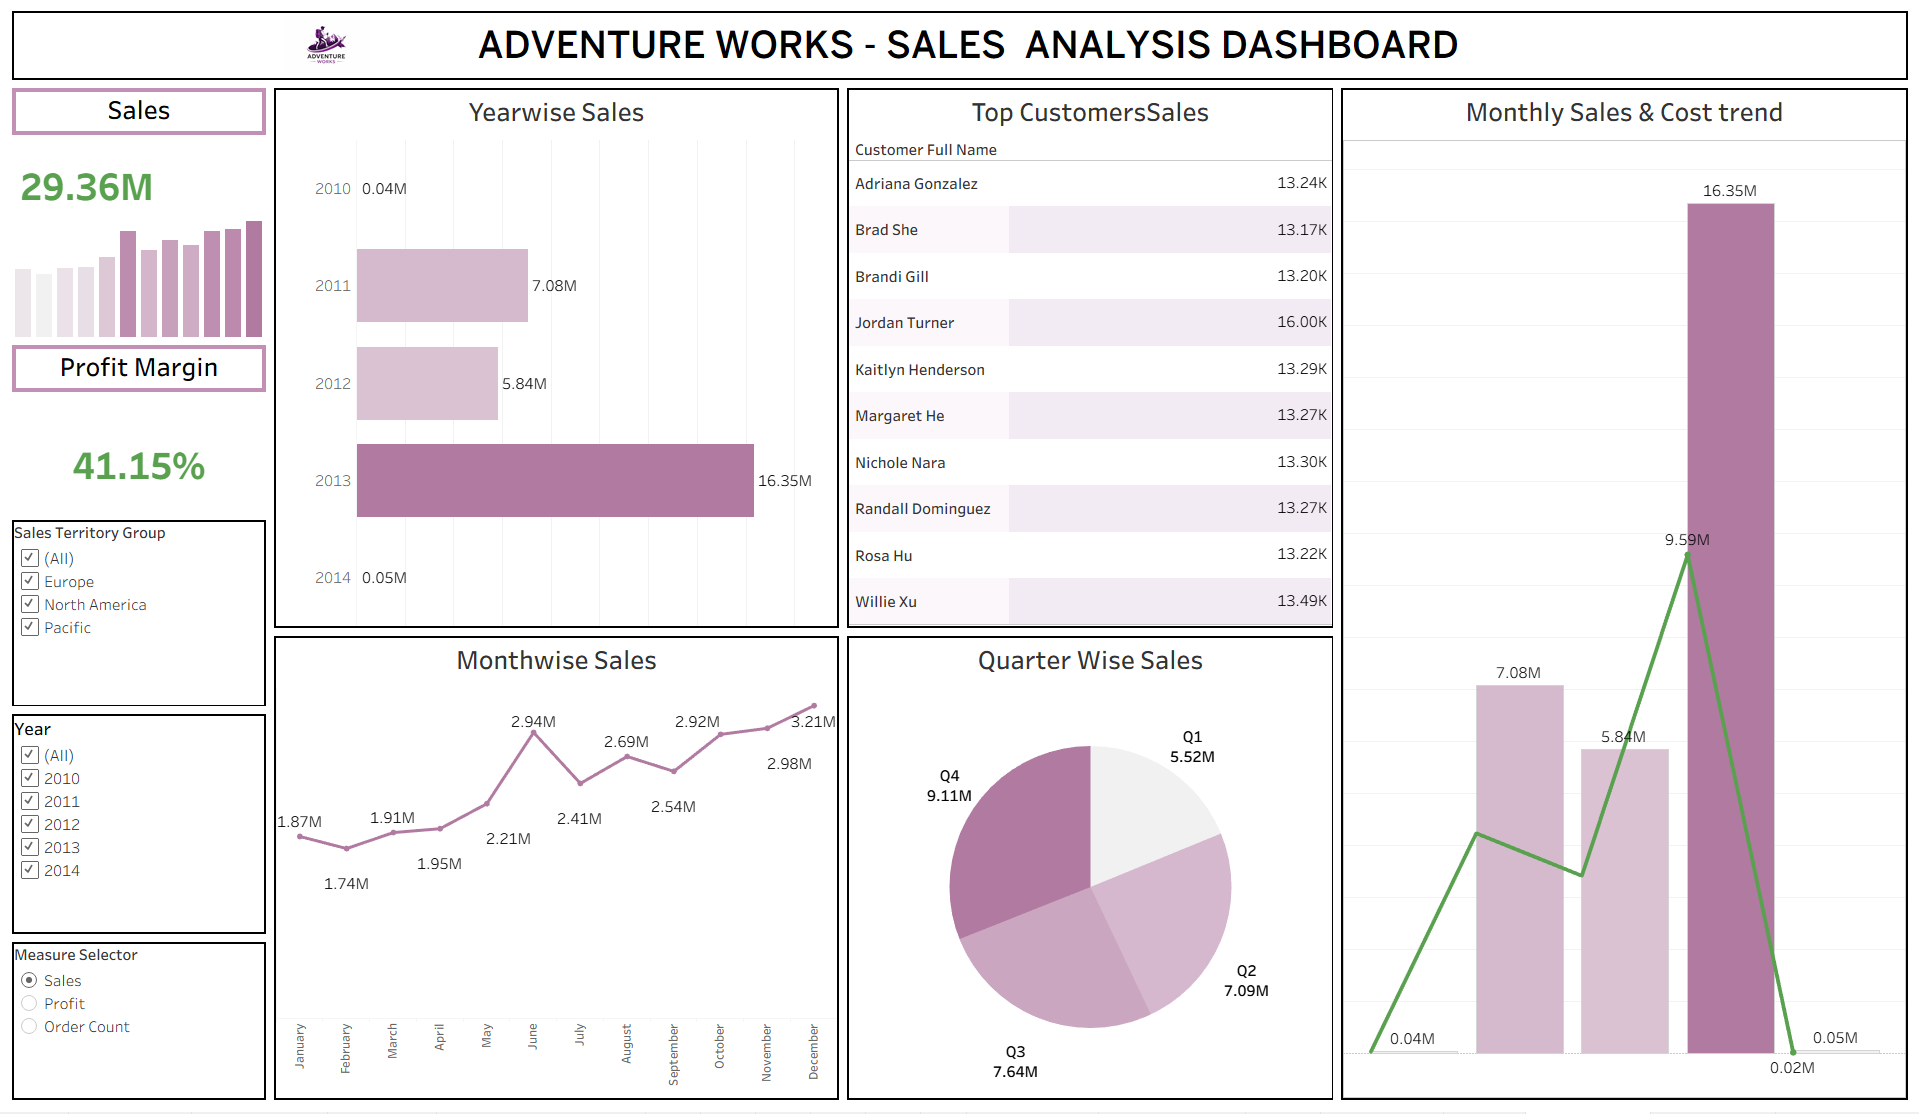

The dashboard page shown, as its layout file describes it:
{"tool":"tableau","page":{"name":"Dashboard 1","canvas":[1000,1000],"units":"permille","ordinal":0},"visuals":[{"type":"title","box":[4.8,8.7,990.3,83.6]},{"type":"image","param":"Image/ChatGPT Image Dec 29, 2025, 03_20_57 PM.png","box":[135.2,15.2,69.4,68.4]},{"type":"worksheet","title":"KPI-1","mark":"Text","box":[4.8,92.3,136.2,137.9]},{"type":"worksheet","title":"Yearwise Sales","mark":"Bar","rows":["Calculation_0649008227635200"],"cols":["Calculation_1408771295559681"],"box":[141.1,92.3,298,482.7]},{"type":"worksheet","title":"Top Customers","mark":"Automatic","rows":["Customer Full Name"],"box":[439.1,92.3,257.2,482.7]},{"type":"worksheet","title":"Monthly sales & Cost trend","mark":"Automatic","rows":["Calculation_1408771295559681","Calculation_0649008234512395"],"cols":["Calculation_0649008227635200"],"box":[696.3,92.3,298.9,899]},{"type":"worksheet","title":"KPI-2","mark":"Automatic","rows":["Calculation_1408771295559681"],"cols":["Calculation_0649008229273603"],"box":[4.8,230.2,136.2,88.6]},{"type":"worksheet","title":"KPI-3","mark":"Text","box":[4.8,318.8,136.2,154.2]},{"type":"filter","title":"Yearwise Sales","param":"[federated.039j6q5122f1bs16p8skw0r28obf].[none:SalesTerritoryGroup:nk]","box":[4.8,473,136.2,171.6]},{"type":"worksheet","title":"Monthwise Sales","mark":"Line","rows":["Calculation_1408771295559681"],"cols":["Calculation_0649008229273603"],"box":[141.1,575,298,416.3]},{"type":"worksheet","title":"Quarter Wise","mark":"Pie","box":[439.1,575,257.2,416.3]},{"type":"filter","title":"Top Customers","param":"[federated.039j6q5122f1bs16p8skw0r28obf].[yr:Calculation_0649008227635200:ok]","box":[4.8,644.5,136.2,200.9]},{"type":"parameter","param":"[Parameters].[Parameter 1]","box":[4.8,845.4,136.2,145.9]}]}

Visuals, with their boxes on the dashboard's canvas, which has no fixed pixel size, in thousandths of its width and height (x1, y1, x2, y2). These are canvas units, not pixel positions in the 1919x1114 screenshot, which may show the page scaled, cropped or inside an application window:
title: 5, 9, 995, 92
image: 135, 15, 205, 84
"KPI-1" worksheet (Text marks): 5, 92, 141, 230
"Yearwise Sales" worksheet (Bar marks): 141, 92, 439, 575
"Top Customers" worksheet: 439, 92, 696, 575
"Monthly sales & Cost trend" worksheet: 696, 92, 995, 991
"KPI-2" worksheet: 5, 230, 141, 319
"KPI-3" worksheet (Text marks): 5, 319, 141, 473
"Yearwise Sales" filter: 5, 473, 141, 645
"Monthwise Sales" worksheet (Line marks): 141, 575, 439, 991
"Quarter Wise" worksheet (Pie marks): 439, 575, 696, 991
"Top Customers" filter: 5, 644, 141, 845
parameter: 5, 845, 141, 991
